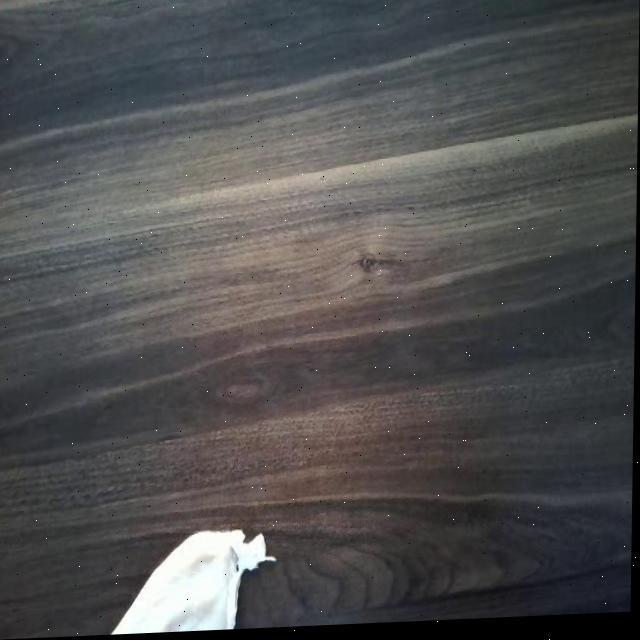breast: (116, 528, 264, 636)
